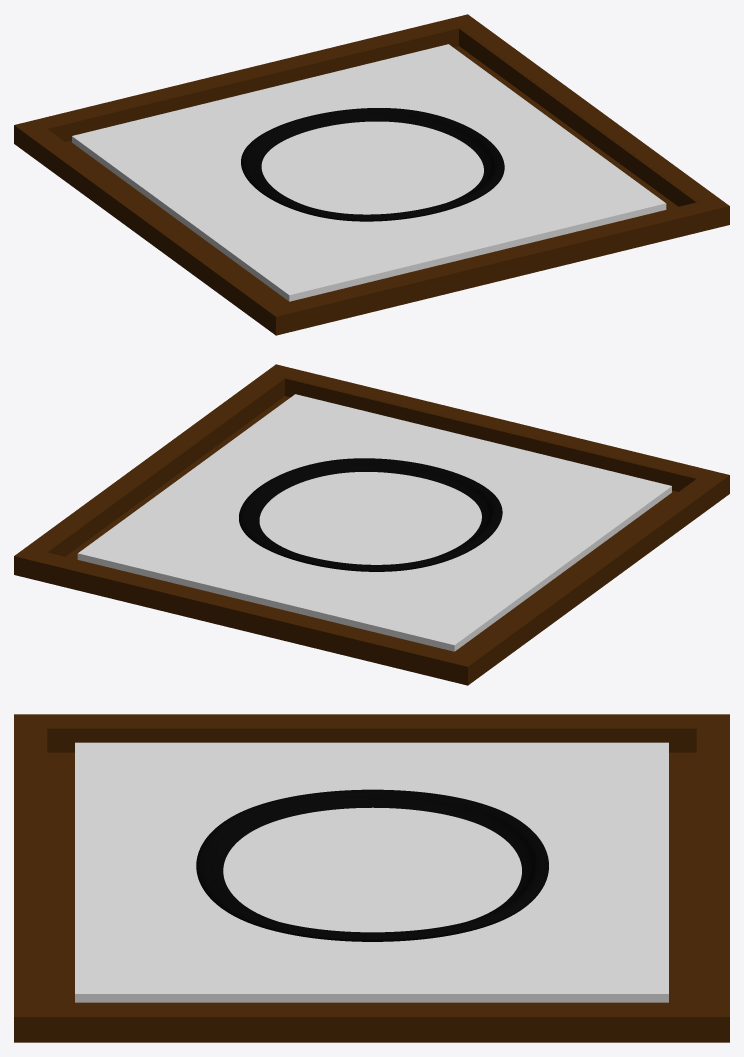
Rendered from church_3krug.fbx.
3 views of the same model, one above another, from view 1: azimuth 30°, elevation 25°; view 2: azimuth 150°, elevation 25°; view 3: azimuth 270°, elevation 25° (orthographic). The views are drawn at different scales.
Visible parts, largest first — view 1: Plane.002, Plane, Plane.004, Plane.008, Plane.007; view 2: Plane.002, Plane, Plane.004, Plane.008, Plane.007; view 3: Plane.002, Plane, Plane.004, Plane.008, Plane.007, Plane.003.
Boxes of the visible parts, left/top/right/bottom form: Plane.002: left=72, top=44, right=666, bottom=301; Plane: left=14, top=14, right=729, bottom=335; Plane.004: left=46, top=27, right=697, bottom=303; Plane.008: left=241, top=108, right=504, bottom=221; Plane.007: left=43, top=26, right=700, bottom=304; Plane.002: left=77, top=394, right=671, bottom=651; Plane: left=14, top=364, right=729, bottom=685; Plane.004: left=46, top=377, right=697, bottom=653; Plane.008: left=239, top=458, right=502, bottom=571; Plane.007: left=43, top=376, right=700, bottom=654; Plane.002: left=75, top=742, right=668, bottom=1002; Plane: left=14, top=714, right=729, bottom=1042; Plane.004: left=45, top=727, right=698, bottom=1003; Plane.008: left=196, top=789, right=548, bottom=941; Plane.007: left=43, top=726, right=700, bottom=1004; Plane.003: left=45, top=728, right=698, bottom=1003.
Size of the model in its own units: 200 by 9.23 by 200.
